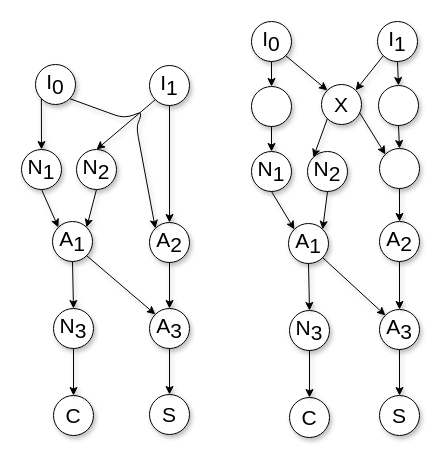
Some shapes in this 443 by 462 pixel diagram are drawn without their labels. Each missing label, with the centre of its shape:
"W 1" goes at pixel 272 108.
"W 2" goes at pixel 399 106.
"W 3" goes at pixel 400 170.
